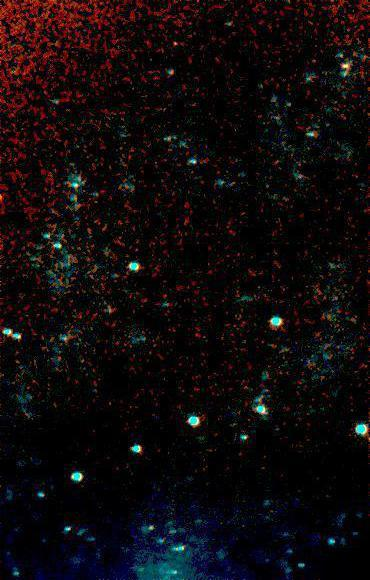star: (159, 24, 189, 54)
